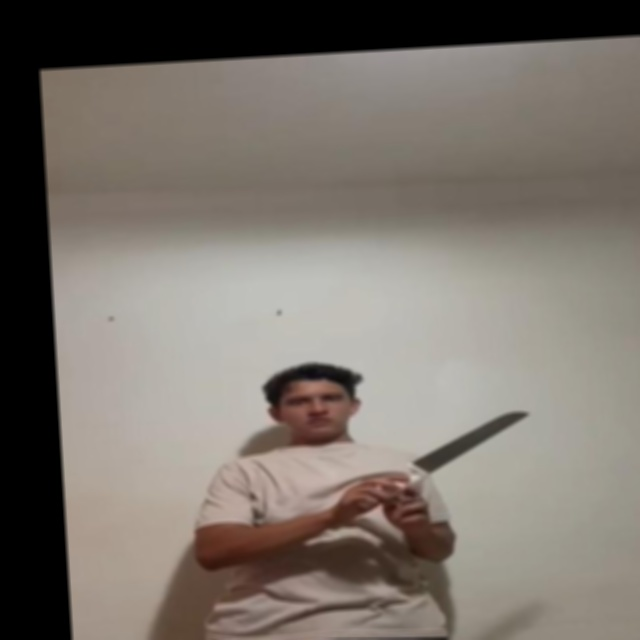Sharp-Object: (404, 409, 535, 467)
